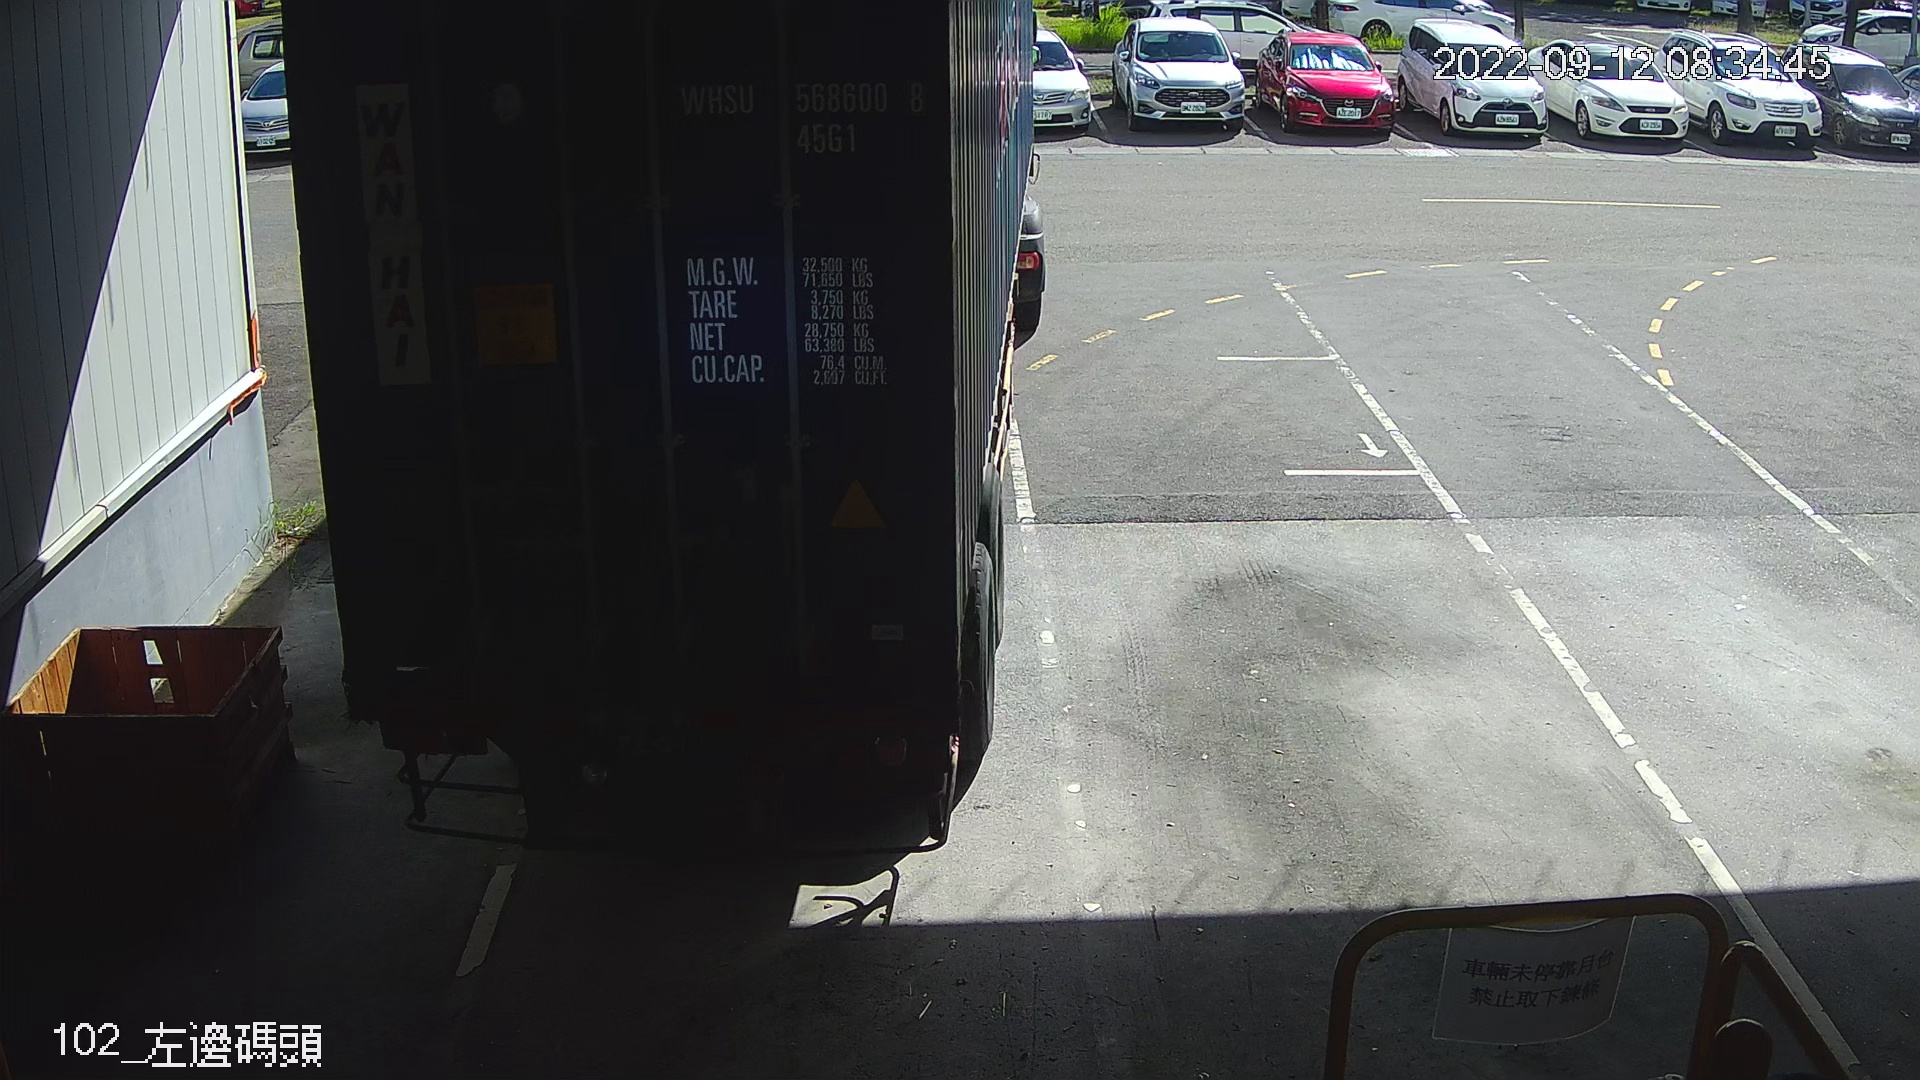container: (666, 61, 938, 164)
